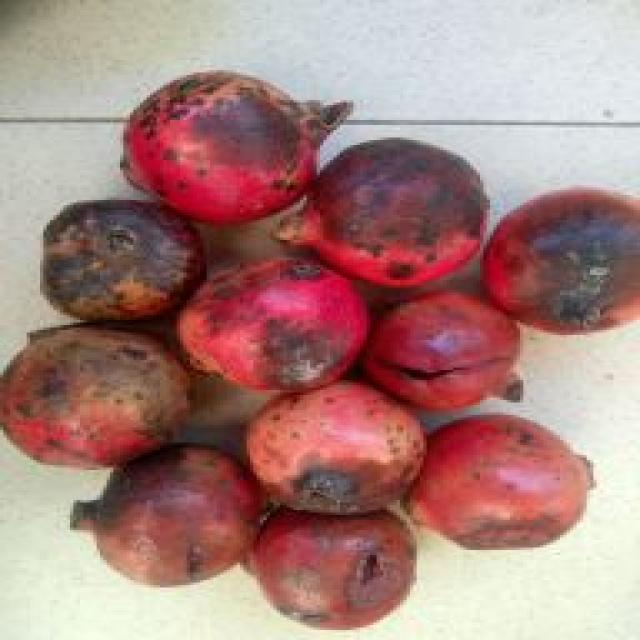Rotten: (487, 184, 640, 334), (251, 504, 420, 632), (41, 199, 204, 321)
